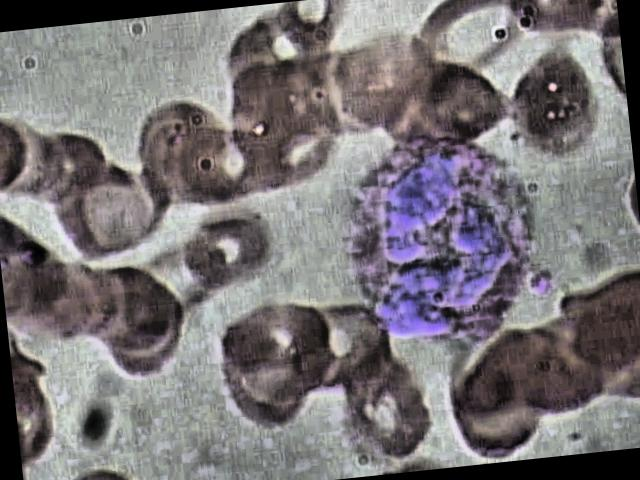Platelets: (522, 259, 562, 306)
RBC: (440, 340, 560, 466), (213, 299, 340, 417), (504, 40, 618, 163), (404, 0, 540, 97), (48, 164, 165, 272), (127, 96, 231, 208), (341, 357, 444, 470), (215, 330, 318, 443), (326, 29, 430, 140), (90, 255, 189, 362), (296, 302, 398, 404), (551, 266, 640, 378), (98, 305, 195, 392), (184, 206, 280, 293), (136, 245, 232, 332), (65, 260, 144, 344), (261, 0, 359, 65)
WBC: (327, 126, 542, 359)
